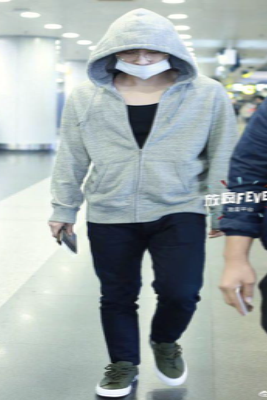mask_weared_incorrect: (114, 47, 171, 80)
